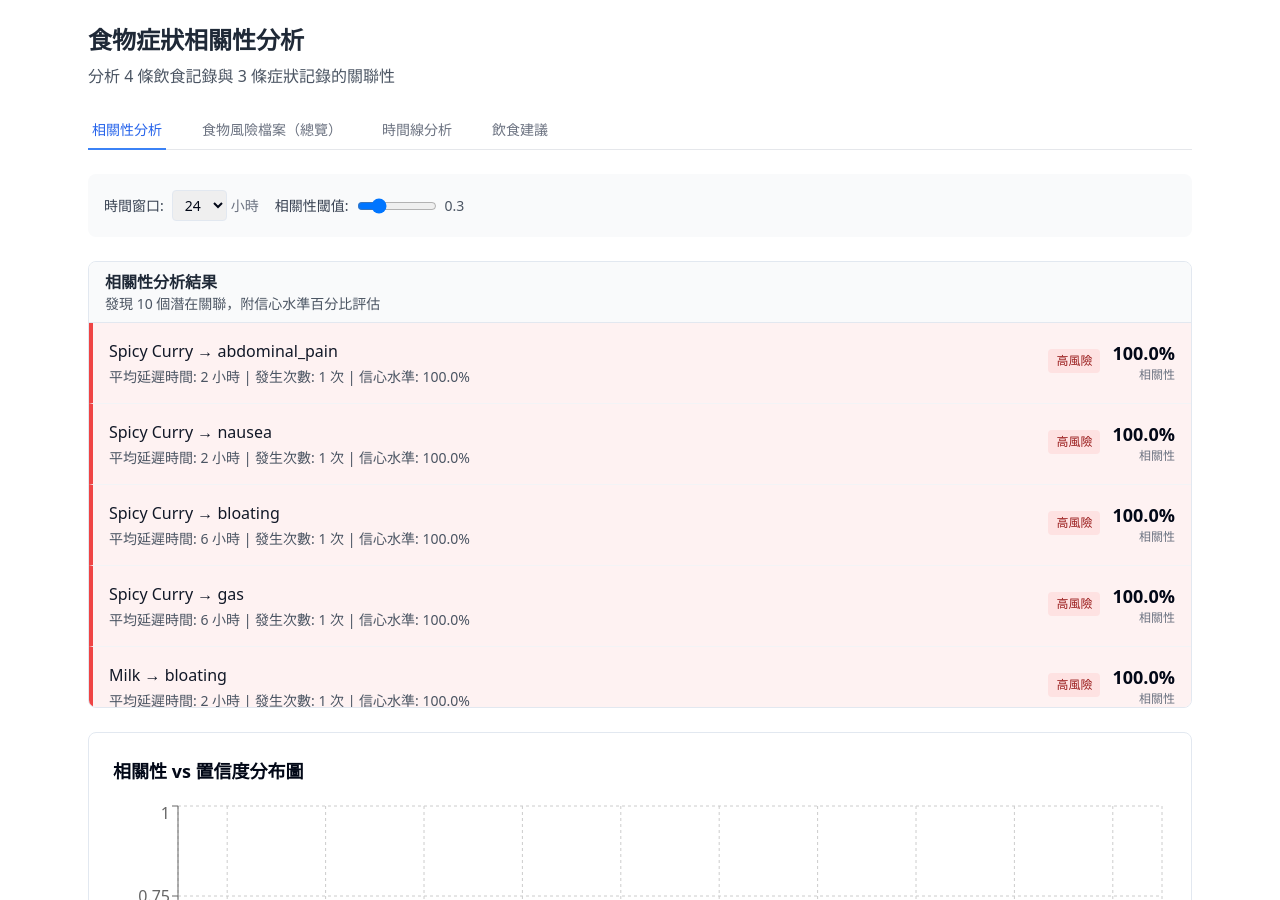
SymptomFoodCorrelationAnalyzer › Tab Navigation › switches to timeline analysis tab
Click the tab "時間線分析" at (417, 131), box x1=378 y1=112 x2=456 y2=150
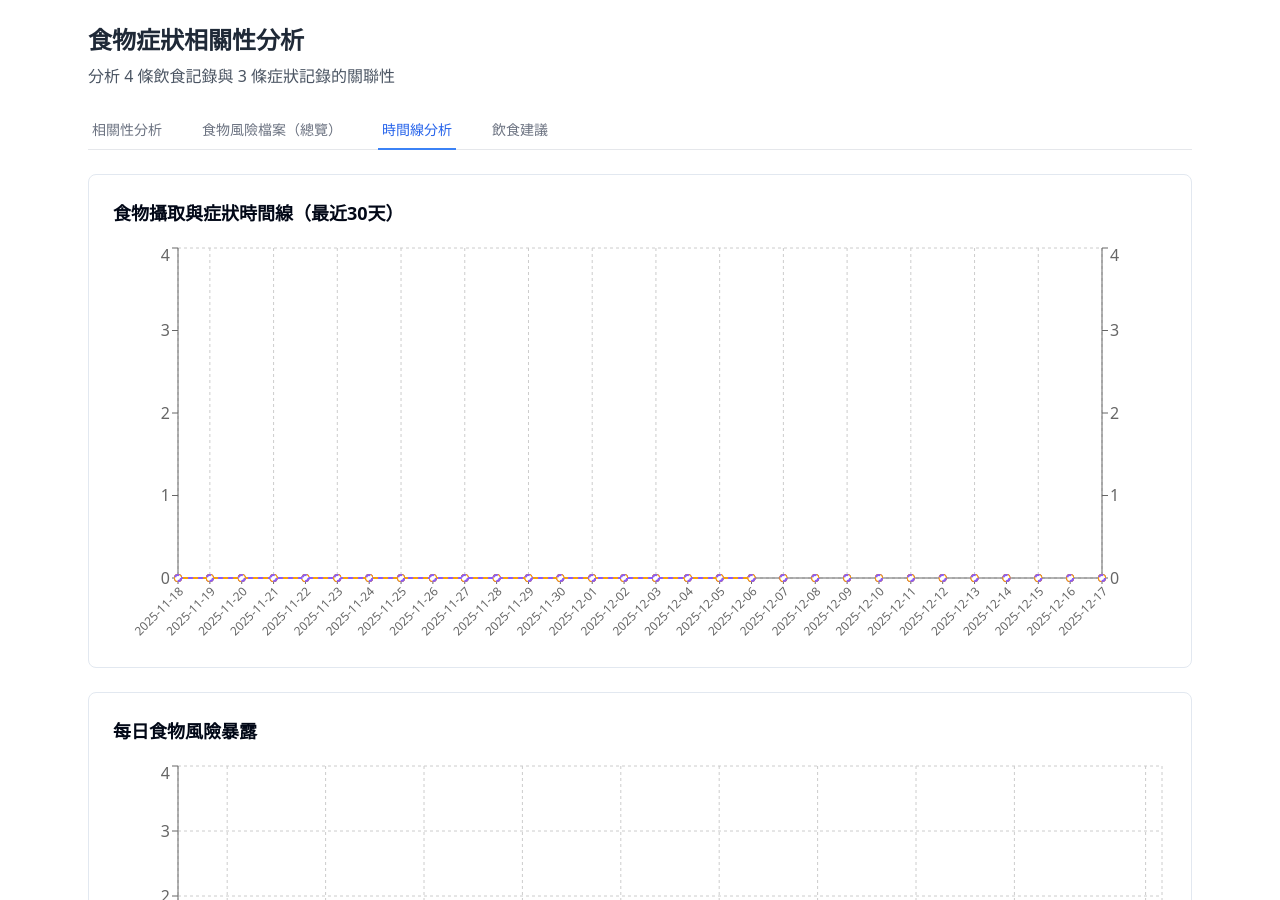
Expected: the heading "食物攝取與症狀時間線（最近30天）" is shown, x1=113 y1=201 x2=404 y2=225
Expected: the heading "每日食物風險暴露" is shown, x1=113 y1=719 x2=257 y2=743
